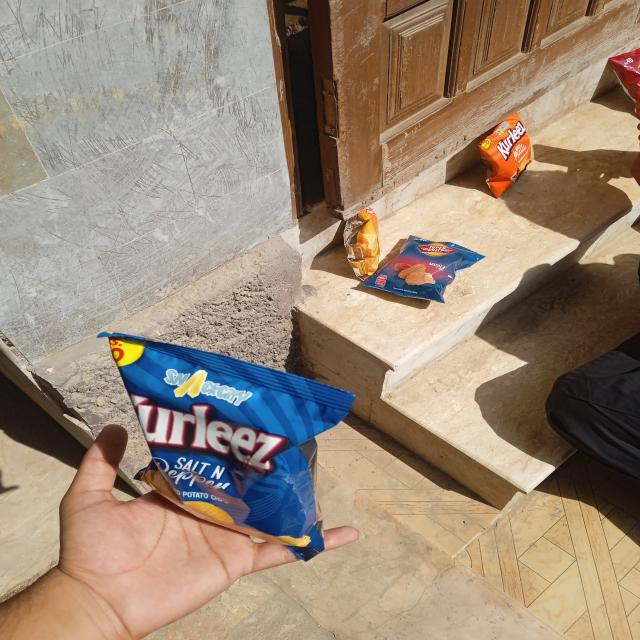Plastic: (102, 328, 348, 559), (366, 232, 480, 310), (468, 110, 538, 198)
